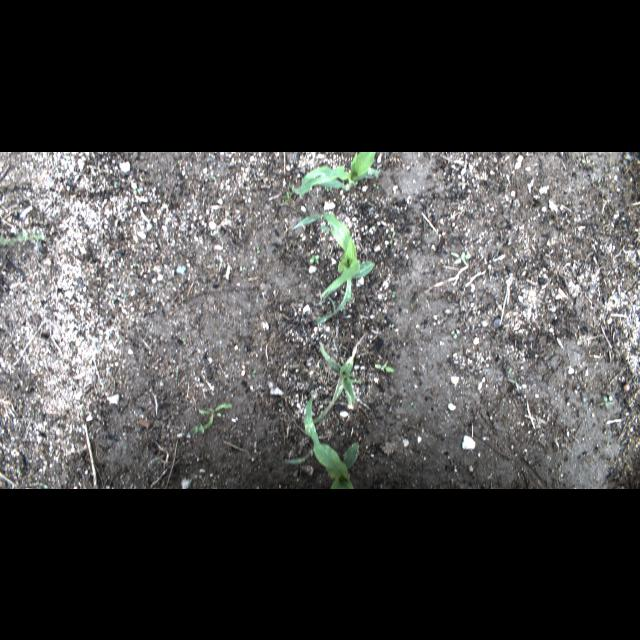crop: (289, 211, 376, 323), (313, 330, 367, 424), (304, 396, 358, 488), (293, 152, 383, 195)
weed: (190, 402, 236, 436), (374, 360, 396, 372), (597, 395, 615, 409), (310, 252, 320, 264)
